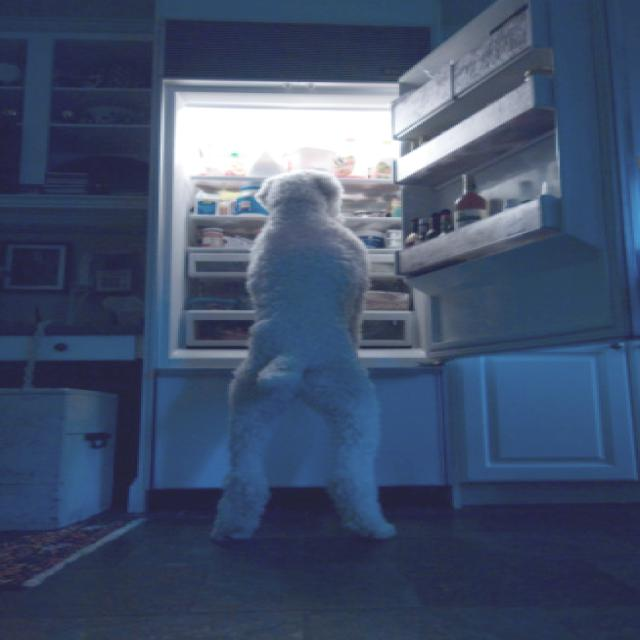Dog: (139, 151, 456, 594)
